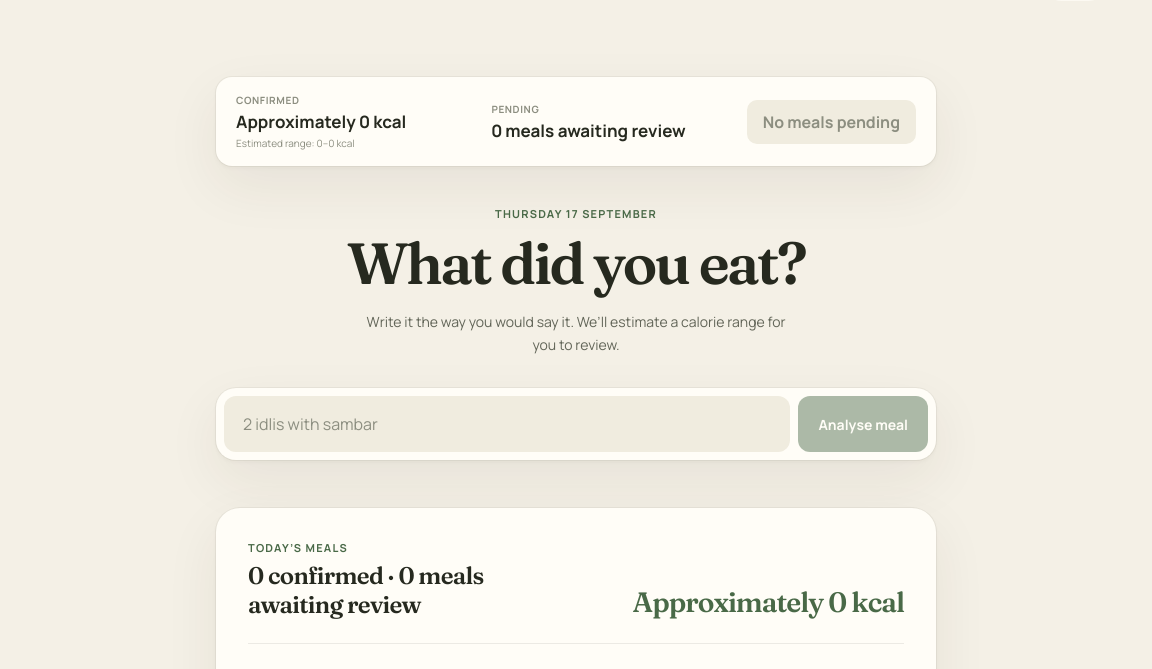
Scenario: Daily Meal Log V2 P0 › exposes one meaningful accessible status for each action
Type "1 cup chai" into the field named "What did you eat?" at (507, 424), box [224,396,790,452]
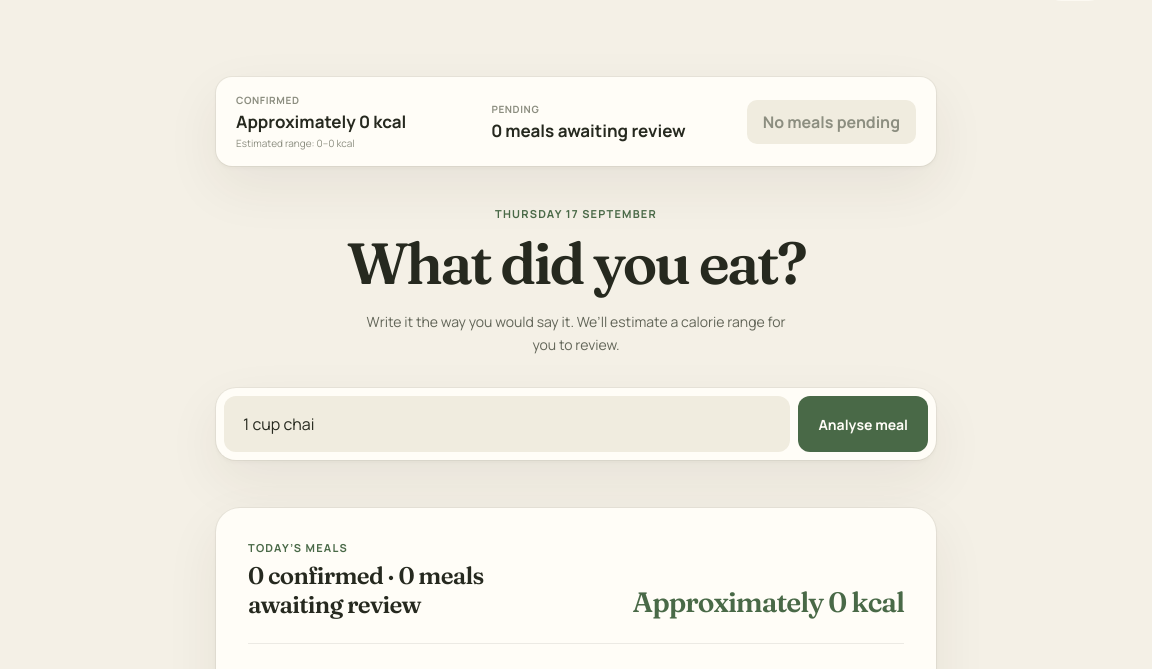
Click the button "Analyse meal" at (863, 424), box [798,396,928,452]
(page scrolled)
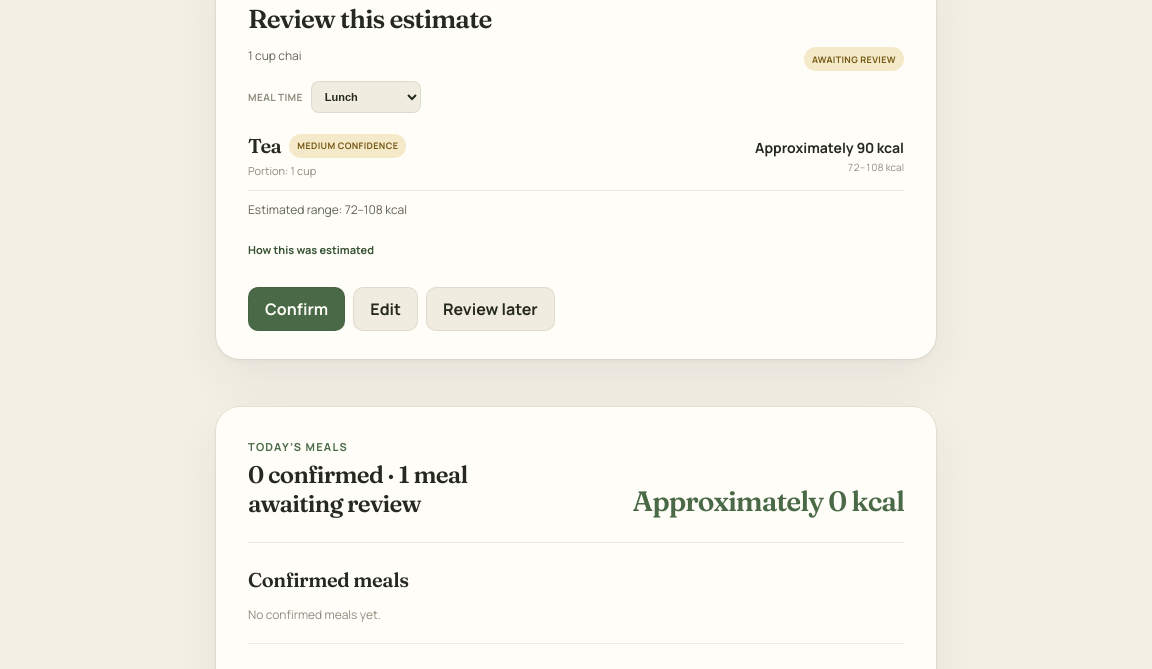
Click the button "Review later" at (490, 309), box [426,287,555,331]
(page scrolled)
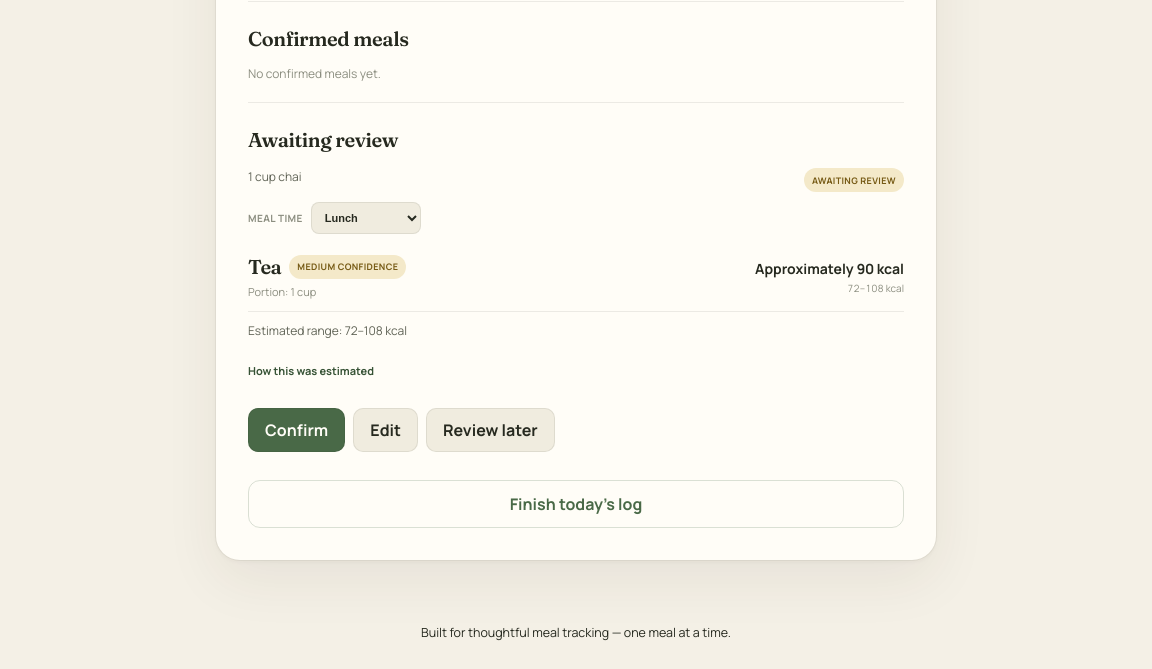
Click the button "Confirm" at (297, 430), box [248,408,345,452]
(page scrolled)
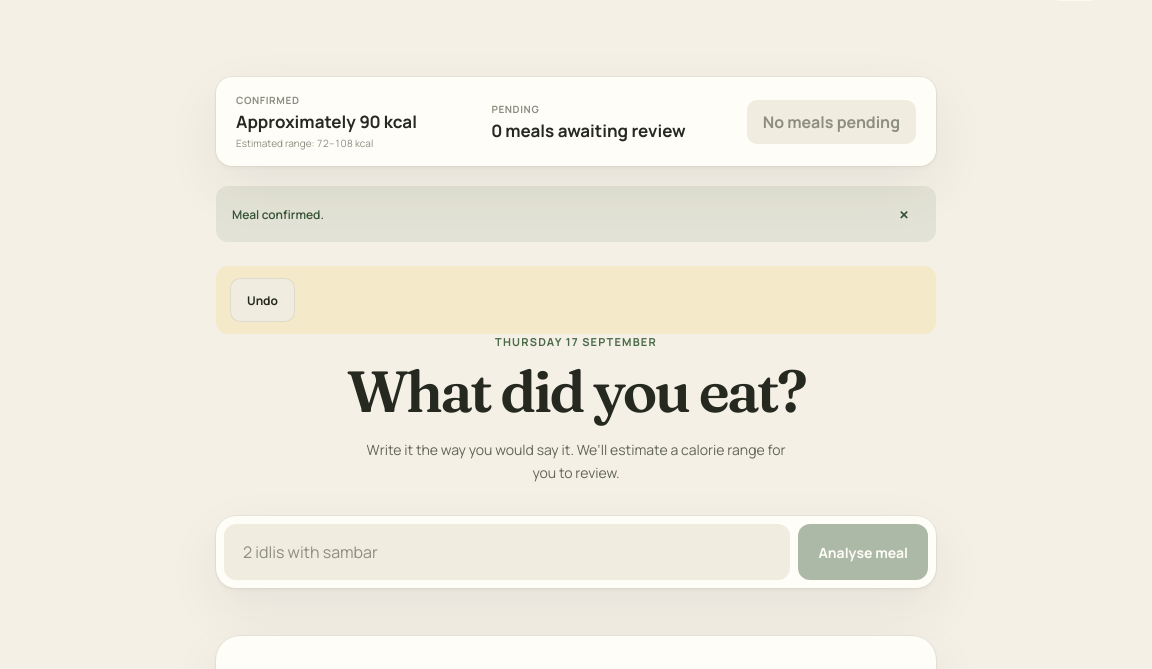
Result: the number of messages is 1 at [216,186,936,242]
Result: the message shows "Meal confirmed." at [232,206,324,222]
